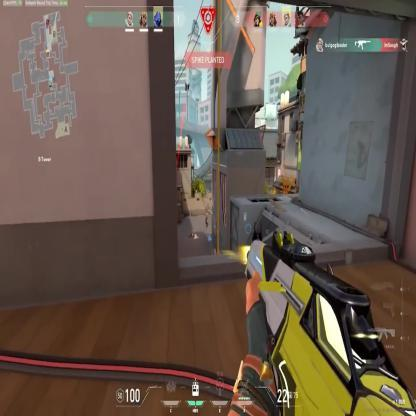enemy: (204, 210, 209, 226)
enemy_head: (205, 210, 207, 214)
